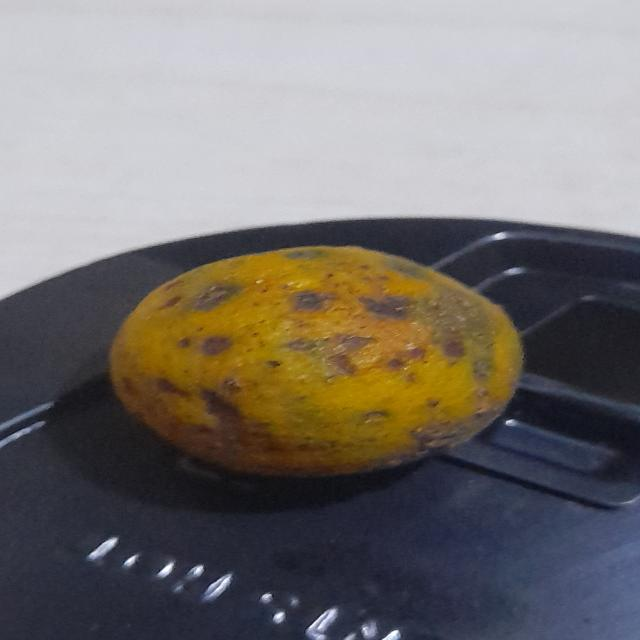black spot: (109, 248, 526, 478)
